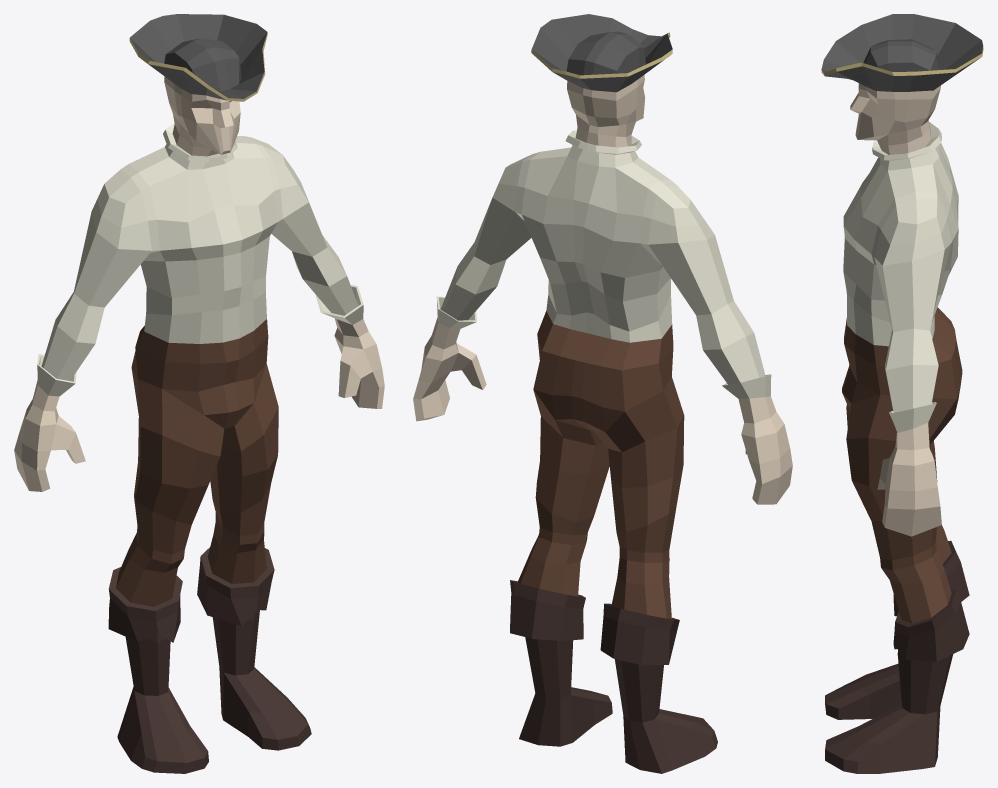
Rendered from Crew Member 1.fbx.
3 renders of one model, left to right at view 1: azimuth 30°, elevation 25°; view 2: azimuth 150°, elevation 25°; view 3: azimuth 270°, elevation 25°, orthographic. The views are drawn at different scales.
Parts seen in each view (by area): view 1: Crew_Member_1; view 2: Crew_Member_1; view 3: Crew_Member_1.
Part boxes in pixels (bbox=[...]): Crew_Member_1: bbox=[14, 14, 384, 773]; Crew_Member_1: bbox=[413, 14, 792, 773]; Crew_Member_1: bbox=[821, 14, 983, 773].
Bounding box in the file's own units: 4.68 × 8.78 × 1.87.
